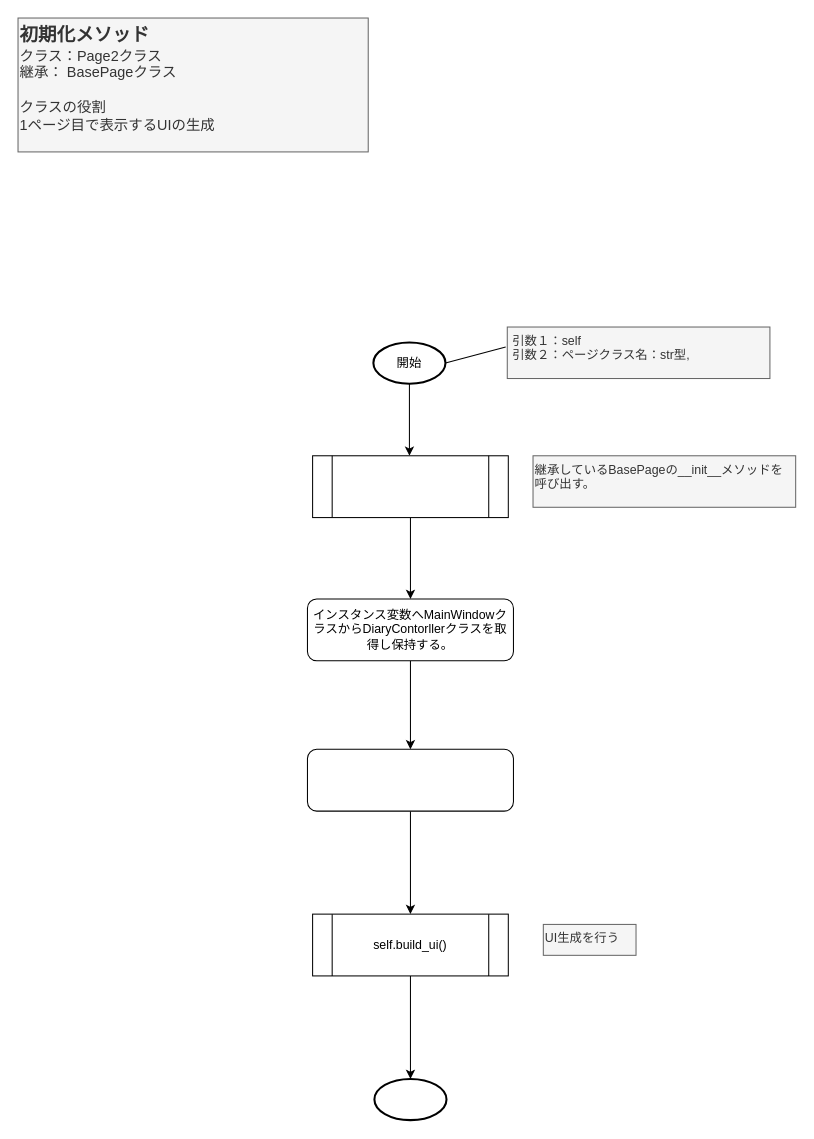
Image size: 814x1139. Some labels were removed from this diagram. The box of each missing label's shape, as (x1, y1, x2, y2) in pixels:
super().__init__(): (312, 455, 508, 518)
バリデーション用のメソッド登録: (306, 748, 513, 811)
終了: (373, 1077, 447, 1121)
